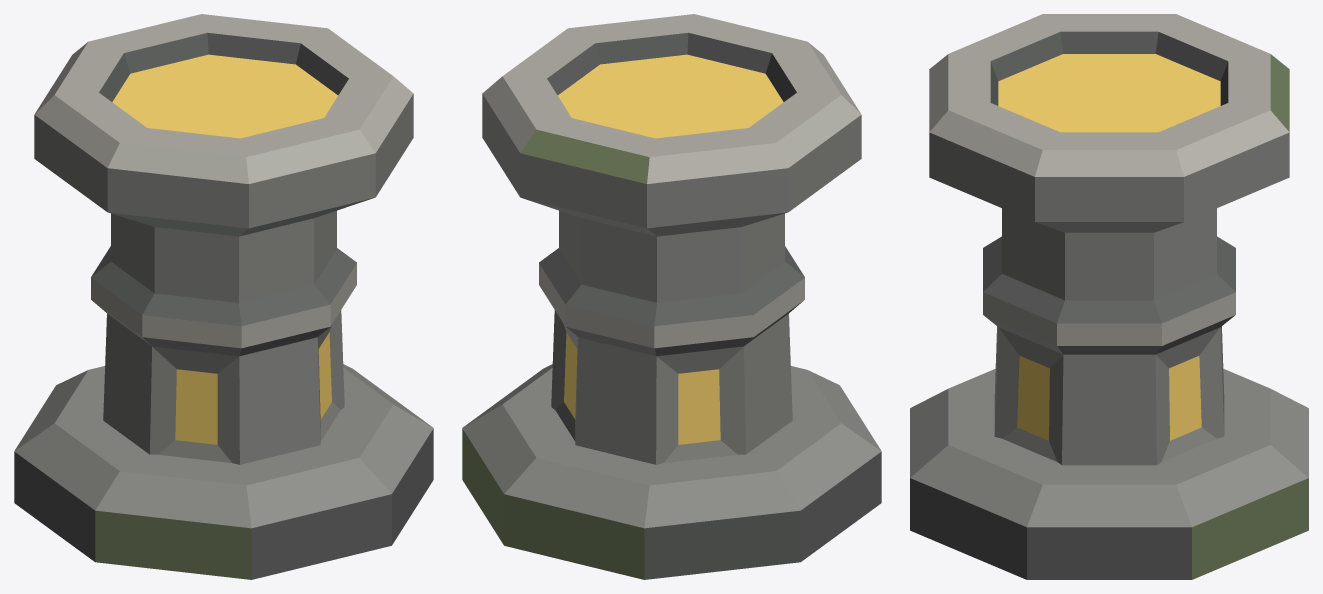
The model's file is seal_pedestal.fbx.
3 renders of one model, left to right at view 1: azimuth 30°, elevation 25°; view 2: azimuth 150°, elevation 25°; view 3: azimuth 270°, elevation 25°, orthographic.
Parts seen in each view (by area): view 1: seal_pedestal; view 2: seal_pedestal; view 3: seal_pedestal.
Part boxes in pixels (left/top/right/bottom): seal_pedestal: left=14, top=14, right=433, bottom=579; seal_pedestal: left=462, top=14, right=881, bottom=579; seal_pedestal: left=910, top=14, right=1308, bottom=579.
Size of the model in its own units: 0.9608 by 1.1 by 0.9608.
